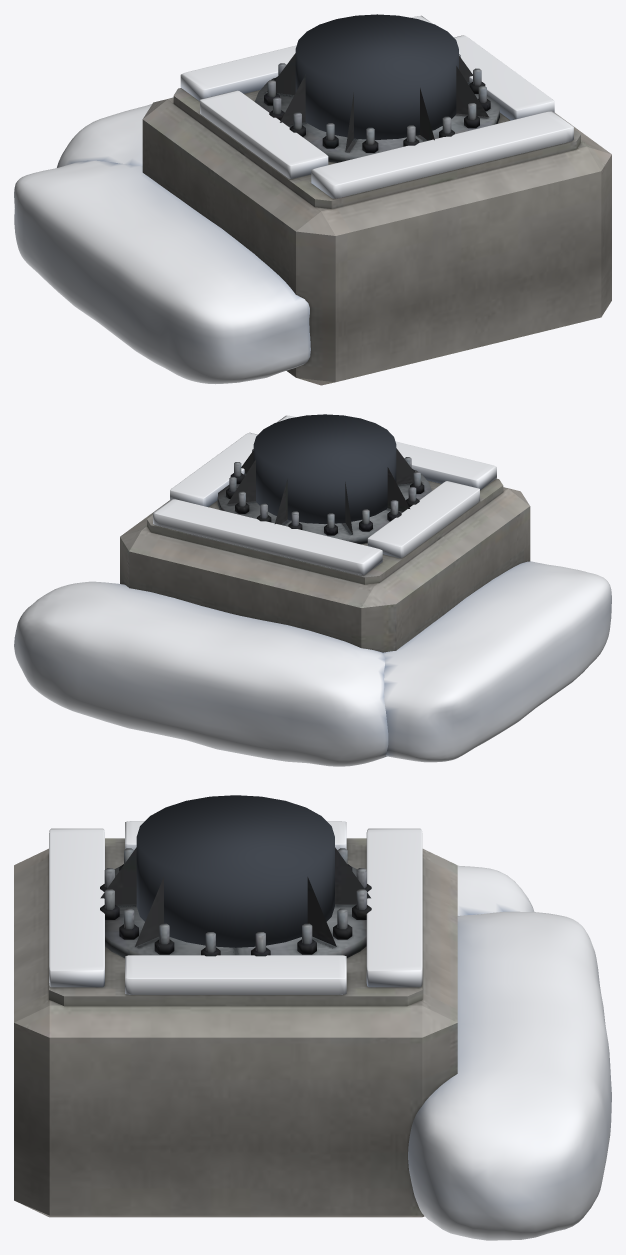
Rendered from tower_base.glb.
3 views of the same model, one above another, from view 1: azimuth 30°, elevation 25°; view 2: azimuth 150°, elevation 25°; view 3: azimuth 270°, elevation 25° (orthographic). The views are drawn at different scales.
Parts seen in each view (by area): view 1: tower_base, tower_base_snow, tower_base_paint; view 2: tower_base_snow, tower_base, tower_base_paint; view 3: tower_base, tower_base_snow, tower_base_paint.
Part boxes in pixels (x1=…): tower_base: x1=142, y1=53, x2=611, y2=385; tower_base_snow: x1=14, y1=15, x2=573, y2=384; tower_base_paint: x1=295, y1=14, x2=458, y2=139; tower_base_snow: x1=14, y1=415, x2=611, y2=766; tower_base: x1=120, y1=448, x2=530, y2=652; tower_base_paint: x1=253, y1=414, x2=396, y2=523; tower_base: x1=14, y1=838, x2=457, y2=1217; tower_base_snow: x1=49, y1=821, x2=611, y2=1240; tower_base_paint: x1=136, y1=795, x2=334, y2=947.
Size of the model in its own units: 3.04 by 1.43 by 2.56.
3 materials, 1 textured.
